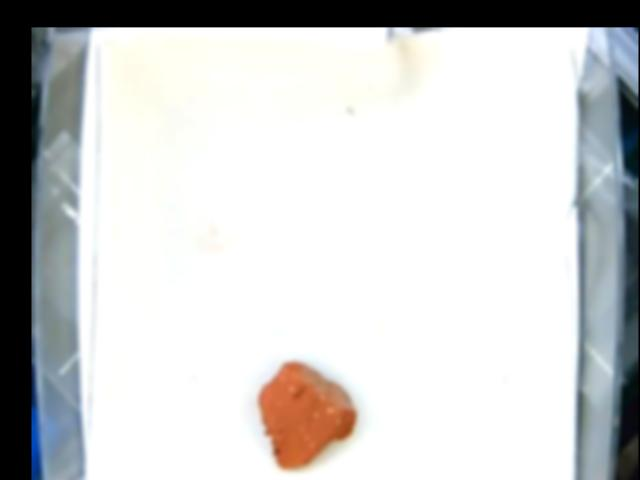Brisk: (257, 360, 355, 470)
